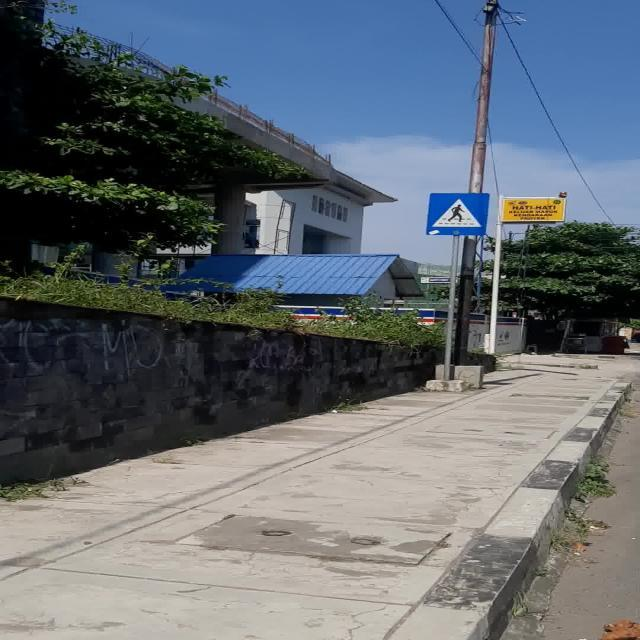Perintah Jalur Penyebrangan: (426, 193, 490, 235)
